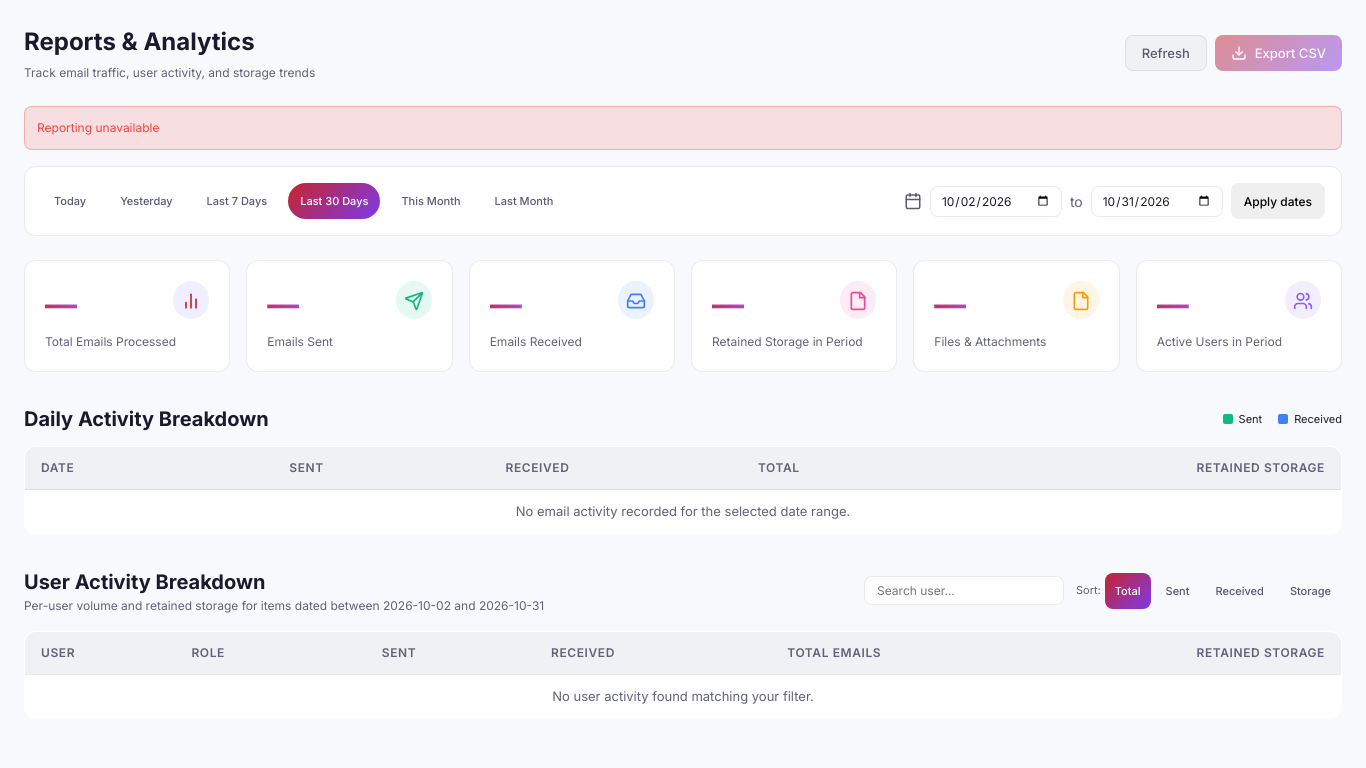
disables invalid custom ranges and shows a failed request without retrying
The width and height of the screenshot is (1366, 768).
Check: the text "Reporting unavailable" is shown, box [24, 106, 1342, 150]
In the date field named "Start date": (996, 201) [930, 186, 1062, 216], type "2026-10-22"
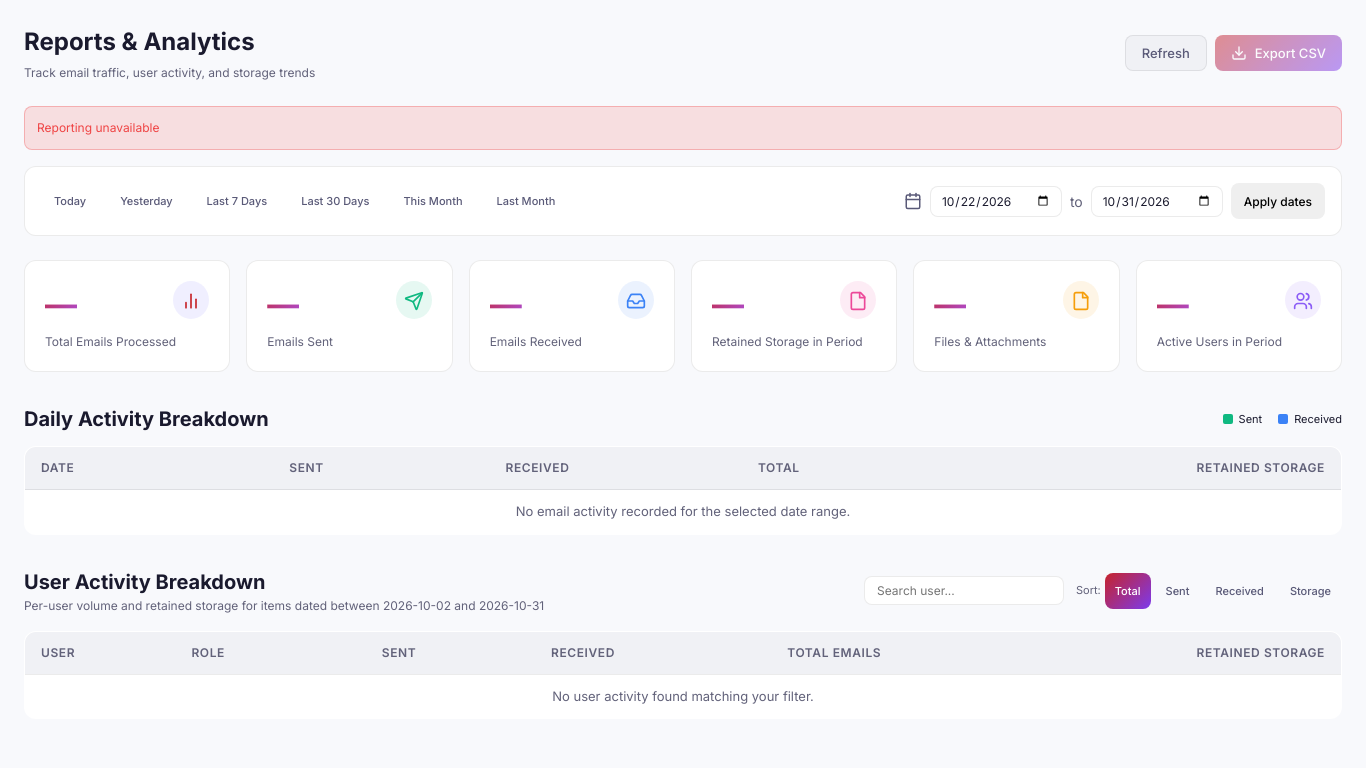
In the date field named "End date": (1157, 201) [1091, 186, 1223, 216], type "2026-10-01"
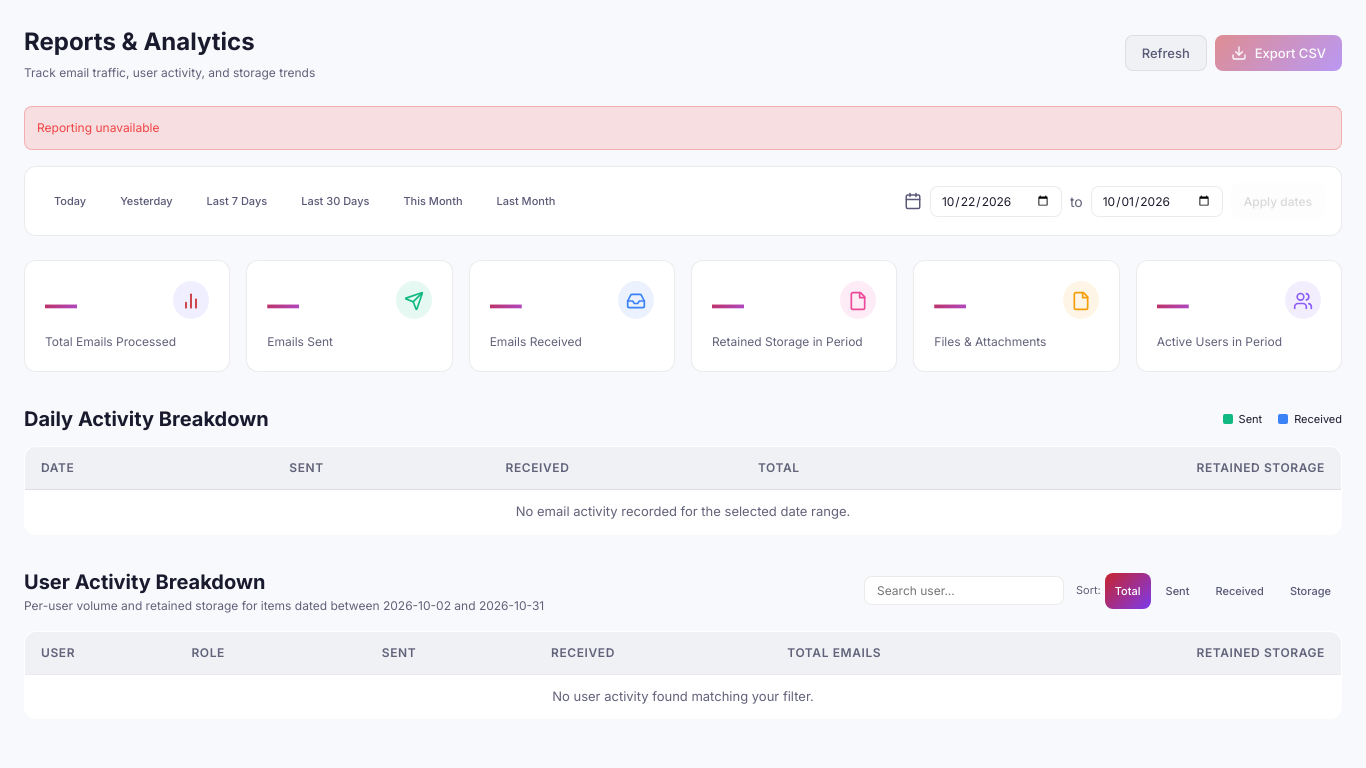
Check: the button "Apply dates" is disabled, box [1231, 183, 1325, 219]
